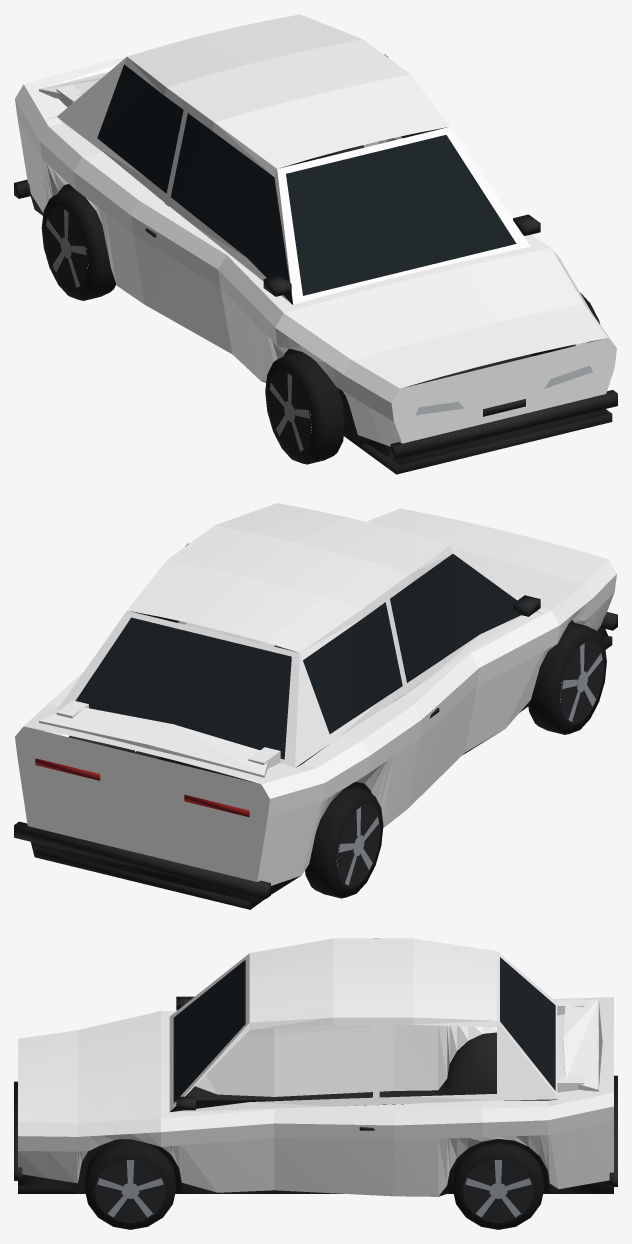
Rendered from castellani_cascalho.glb.
3 views of the same model, one above another, from view 1: azimuth 30°, elevation 25°; view 2: azimuth 150°, elevation 25°; view 3: azimuth 270°, elevation 25° (orthographic). The views are drawn at different scales.
Visible parts, largest first — view 1: Body_Paint, Body_Details, Mount_FrontLeft_Wheel_Details, Mount_RearLeft_Wheel_Details; view 2: Body_Paint, Body_Details, Mount_RearLeft_Wheel_Details, Mount_FrontLeft_Wheel_Details; view 3: Body_Paint, Body_Details, Mount_FrontRight_Wheel_Details, Mount_RearRight_Wheel_Details.
Boxes of the visible parts, x1,y1,x2,y2 form: Body_Paint: [15, 14, 616, 446]; Body_Details: [14, 64, 617, 474]; Mount_FrontLeft_Wheel_Details: [265, 351, 344, 464]; Mount_RearLeft_Wheel_Details: [41, 189, 116, 300]; Body_Paint: [15, 503, 616, 885]; Body_Details: [14, 554, 617, 909]; Mount_RearLeft_Wheel_Details: [305, 787, 383, 898]; Mount_FrontLeft_Wheel_Details: [528, 622, 606, 734]; Body_Paint: [18, 938, 613, 1196]; Body_Details: [14, 957, 617, 1196]; Mount_FrontRight_Wheel_Details: [84, 1139, 176, 1229]; Mount_RearRight_Wheel_Details: [452, 1143, 544, 1229].
Bounding box in the file's own units: 1.87 × 1.45 × 4.01.
Materials: 2 (1 with a texture image).
